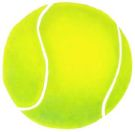tennis ball: (2, 1, 133, 128)
